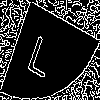L: (25, 25, 60, 79)
